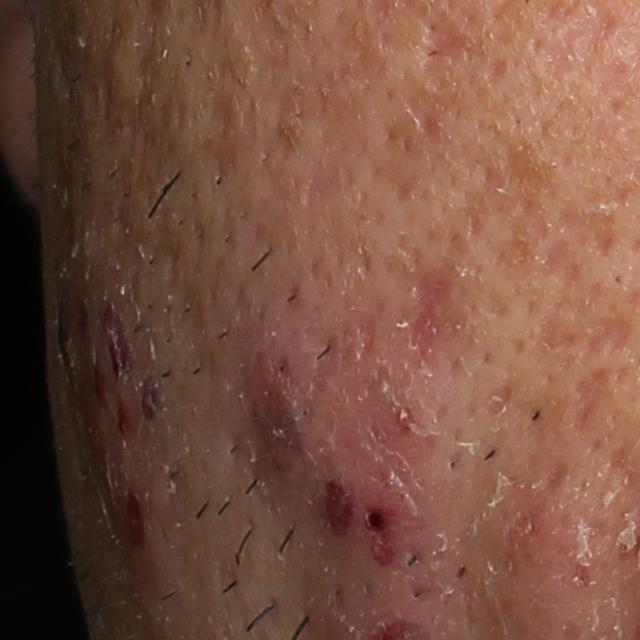atrophic_scar: (465, 143, 559, 282), (397, 266, 462, 372), (565, 364, 620, 438), (562, 202, 622, 259), (576, 310, 637, 360), (478, 57, 512, 94)
nodule: (52, 233, 187, 602)
